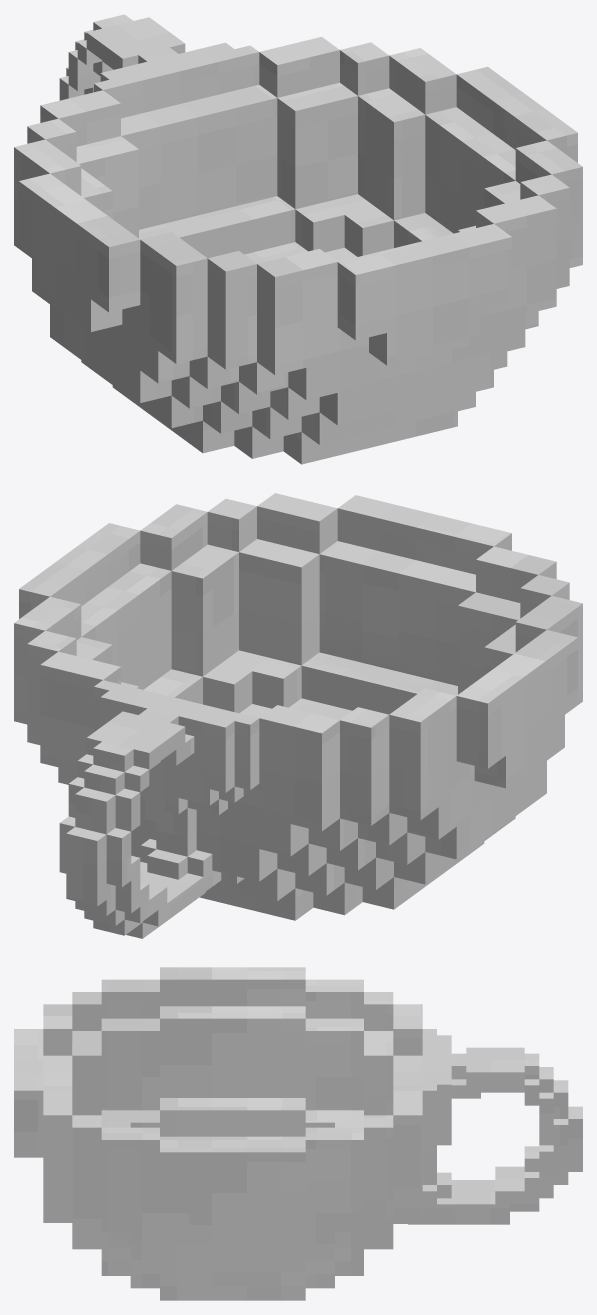
File: Breakable_EspressoCup.fbx
3 renders of one model, top to bottom at view 1: azimuth 30°, elevation 25°; view 2: azimuth 150°, elevation 25°; view 3: azimuth 270°, elevation 25°, orthographic. The views are drawn at different scales.
Parts seen in each view (by area): view 1: EspressoCup_Breakable_5, EspressoCup_Breakable_4, EspressoCup_Breakable_1, EspressoCup_Breakable_3, EspressoCup_Breakable_2; view 2: EspressoCup_Breakable_1, EspressoCup_Breakable_4, EspressoCup_Breakable_5, EspressoCup_Breakable_3, EspressoCup_Breakable_2, EspressoCup_Breakable_6; view 3: EspressoCup_Breakable_5, EspressoCup_Breakable_1, EspressoCup_Breakable_3, EspressoCup_Breakable_4, EspressoCup_Breakable_2, EspressoCup_Breakable_6.
Part boxes in pixels (<box>): EspressoCup_Breakable_5: <box>259,37,582,288</box>; EspressoCup_Breakable_4: <box>239,195,556,456</box>; EspressoCup_Breakable_1: <box>14,14,295,413</box>; EspressoCup_Breakable_3: <box>55,200,332,464</box>; EspressoCup_Breakable_2: <box>14,139,86,330</box>; EspressoCup_Breakable_1: <box>59,680,492,938</box>; EspressoCup_Breakable_4: <box>239,493,556,720</box>; EspressoCup_Breakable_5: <box>14,498,256,784</box>; EspressoCup_Breakable_3: <box>430,575,582,882</box>; EspressoCup_Breakable_2: <box>389,669,523,812</box>; EspressoCup_Breakable_6: <box>203,650,332,717</box>; EspressoCup_Breakable_5: <box>72,1090,422,1300</box>; EspressoCup_Breakable_1: <box>247,992,582,1275</box>; EspressoCup_Breakable_3: <box>72,967,247,1139</box>; EspressoCup_Breakable_4: <box>14,1004,101,1249</box>; EspressoCup_Breakable_2: <box>247,967,363,1097</box>; EspressoCup_Breakable_6: <box>101,1233,218,1300</box>.
Bounding box in the file's own units: 300 × 140 × 390.
1 material, 1 textured.
